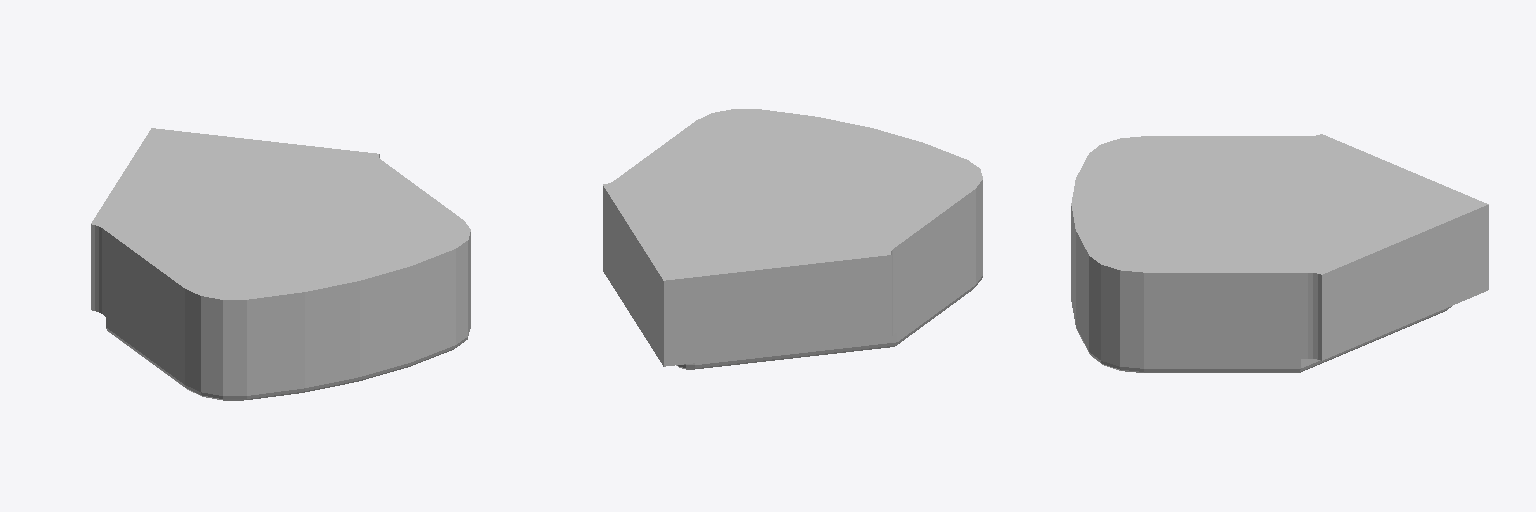
Rendered from DPadUp.obj.
The picture shows the model from 3 angles: view 1: azimuth 30°, elevation 25°; view 2: azimuth 150°, elevation 25°; view 3: azimuth 270°, elevation 25°; orthographic projection.
Parts seen in each view (by area): view 1: DPadUp; view 2: DPadUp; view 3: DPadUp.
Boxes of the visible parts, x1,y1,x2,y2 form: DPadUp: [91, 128, 470, 400]; DPadUp: [603, 109, 982, 369]; DPadUp: [1071, 134, 1488, 372].
Size of the model in its own units: 8.79 by 3 by 11.